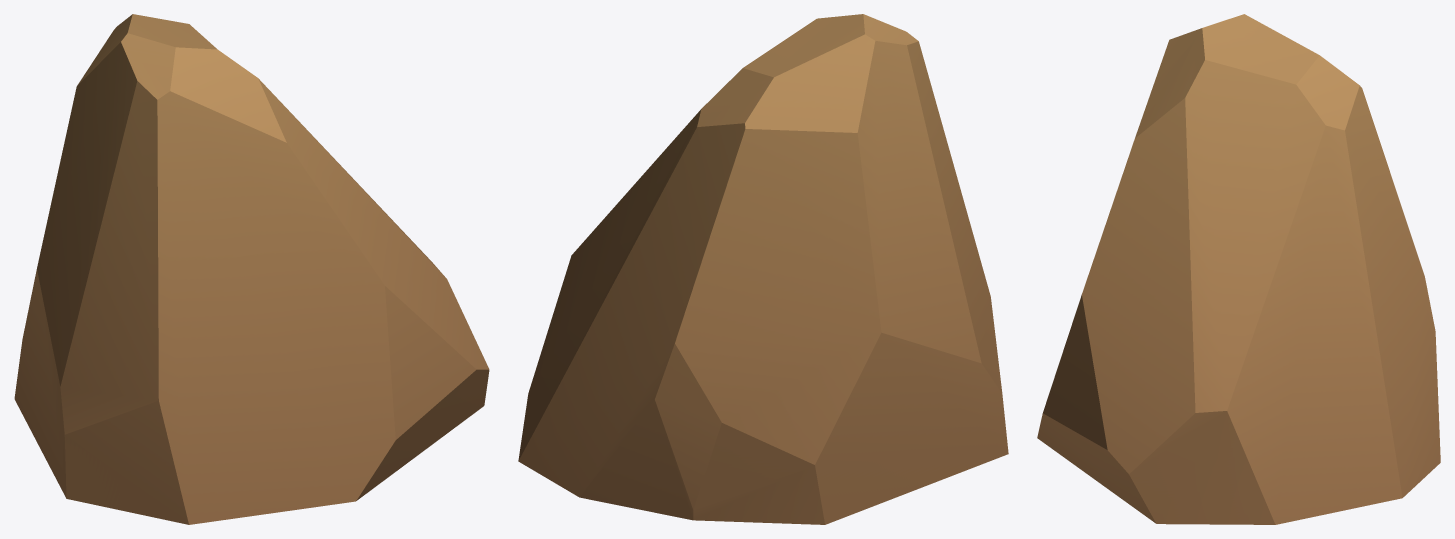
File: desert stone small 7.fbx
3 renders of one model, left to right at view 1: azimuth 30°, elevation 25°; view 2: azimuth 150°, elevation 25°; view 3: azimuth 270°, elevation 25°, orthographic. The views are drawn at different scales.
Parts seen in each view (by area): view 1: desert stone small 7; view 2: desert stone small 7; view 3: desert stone small 7.
Boxes of the visible parts, <box> form: desert stone small 7: <box>14,14,489,524</box>; desert stone small 7: <box>518,14,1008,524</box>; desert stone small 7: <box>1037,14,1440,524</box>.
Size of the model in its own units: 109 by 105 by 103.
